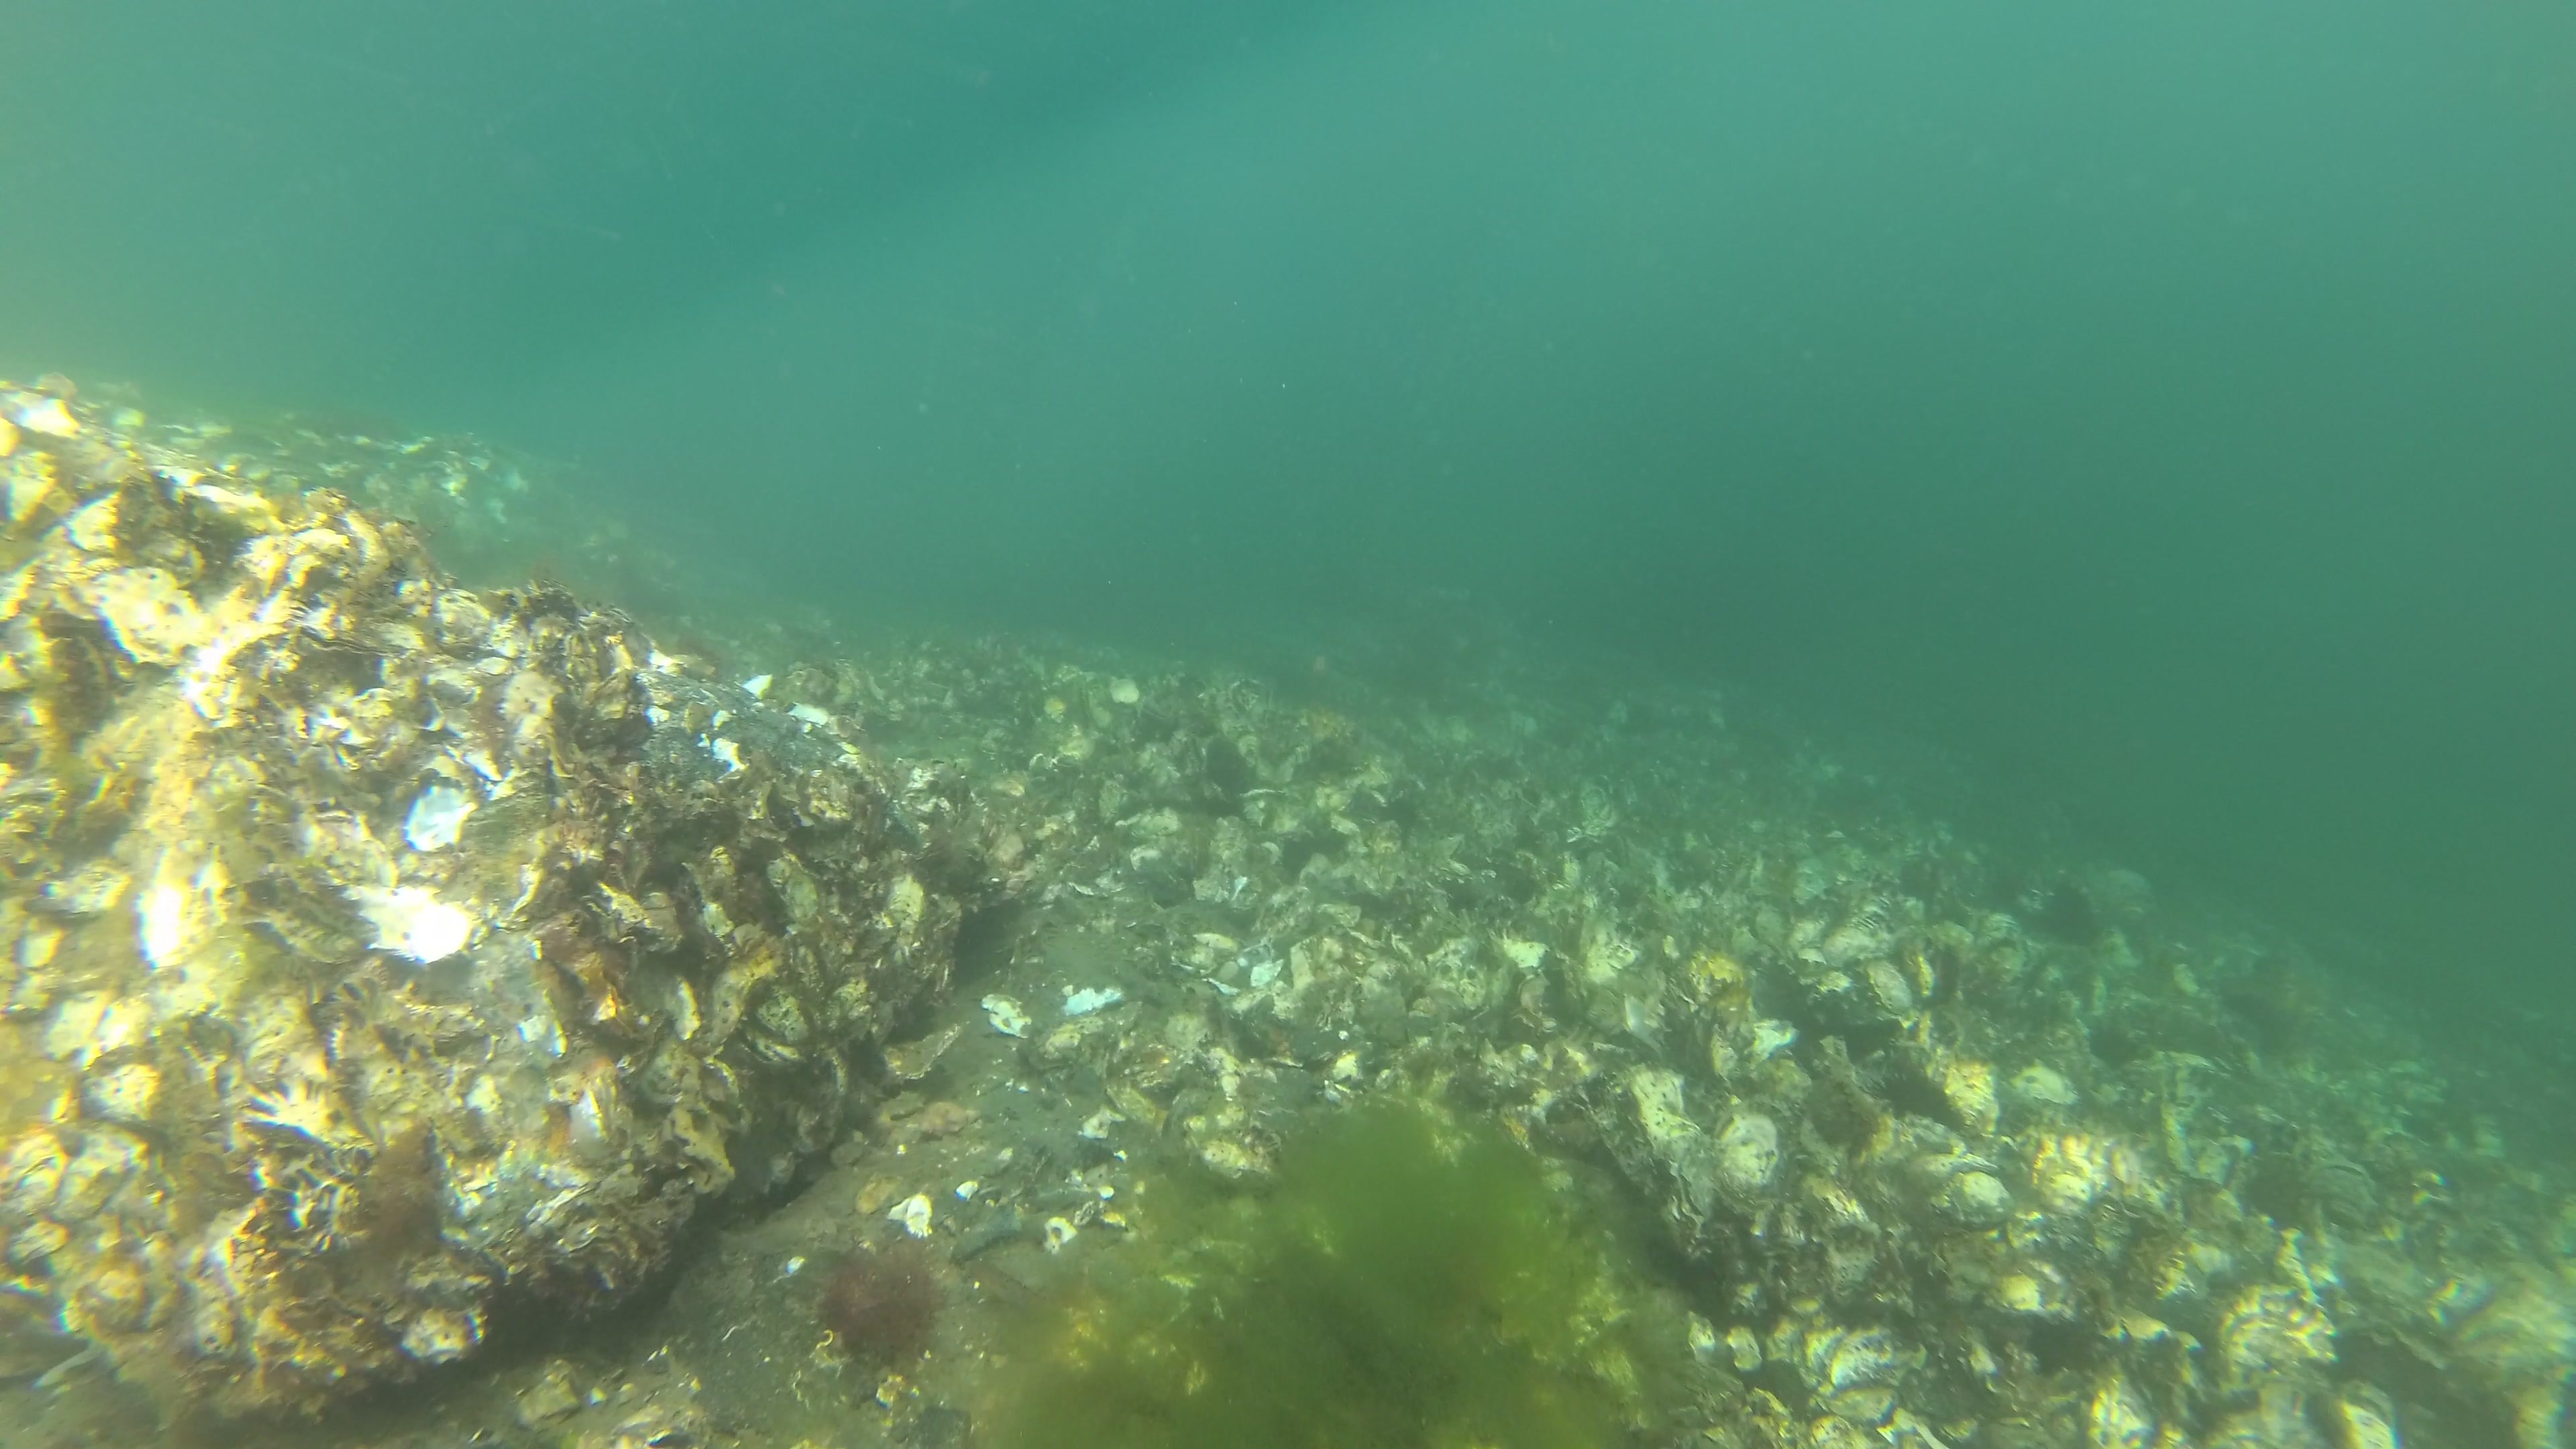echinus: (1870, 1058, 1959, 1139), (2033, 881, 2104, 955), (2086, 1010, 2153, 1074)
